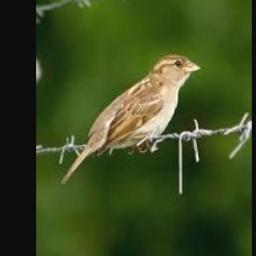Sparrow: (60, 53, 201, 184)
